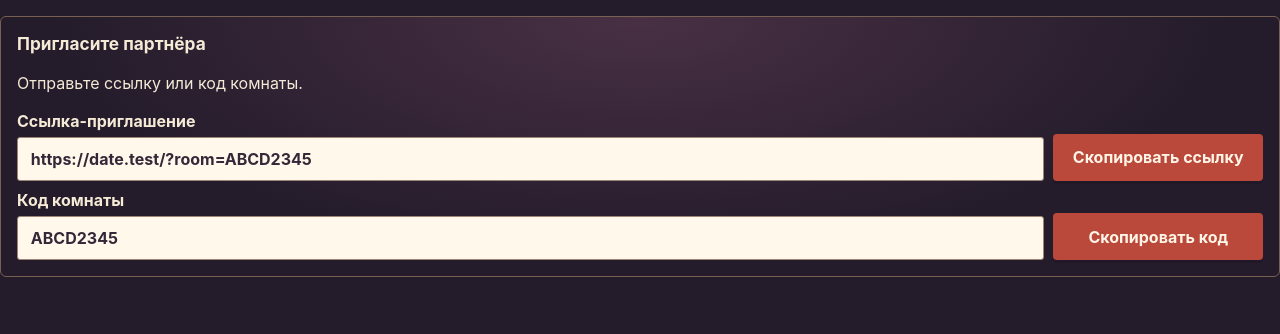
Scenario: InvitePanel › copies the invite link and announces success
Step 1. Click the button "Скопировать ссылку" → click(1158, 157), box [1053,134,1263,181]
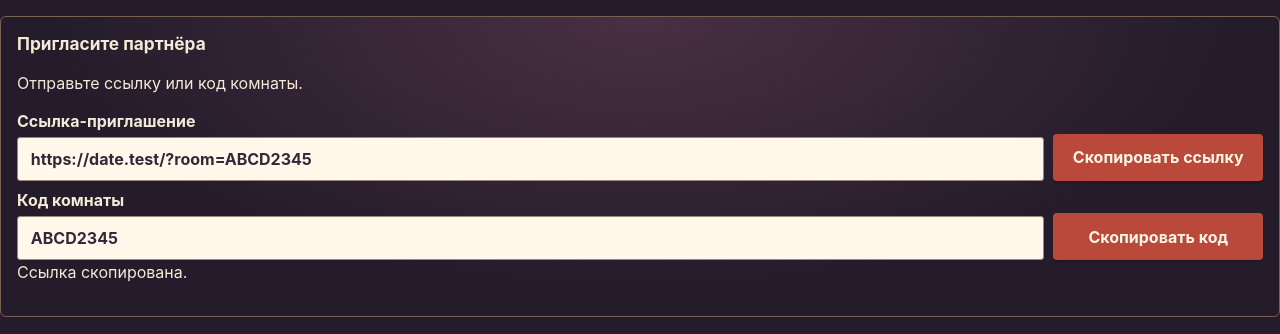
Now the message shows "скопирована", box [17,262,187,282]
